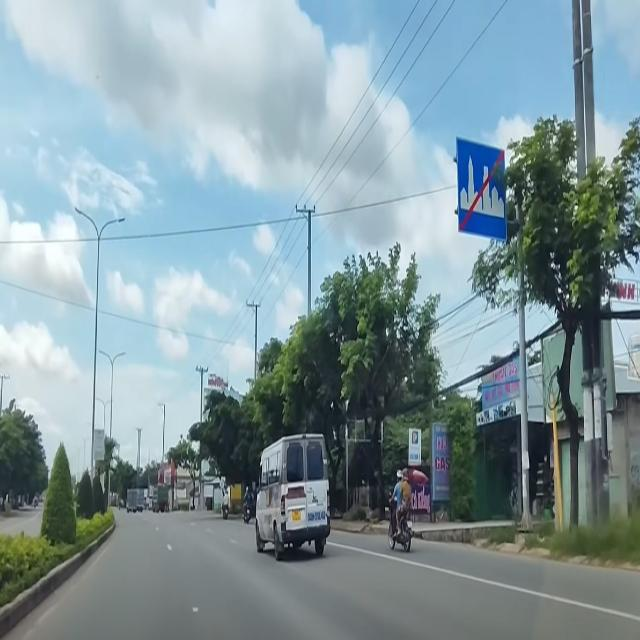Bien hieu lenh het khu dong dan cu: (454, 134, 511, 243)
